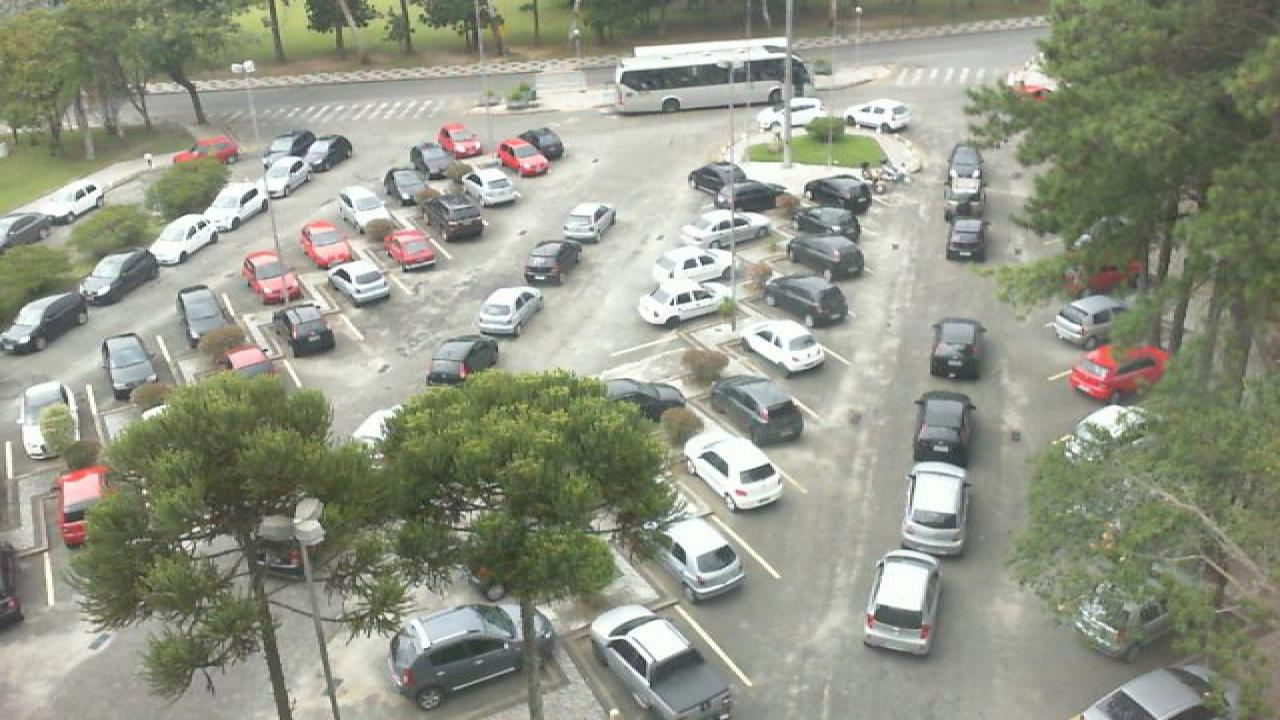Car: (384, 602, 546, 713), (588, 605, 738, 720), (632, 513, 746, 602), (860, 548, 940, 657), (682, 430, 786, 510), (896, 459, 974, 556), (708, 372, 806, 444), (1070, 344, 1170, 404), (2, 292, 90, 356), (910, 388, 978, 468), (740, 317, 828, 375), (72, 250, 160, 305), (766, 272, 848, 329), (16, 379, 72, 460), (54, 463, 110, 544), (1048, 294, 1130, 349), (100, 333, 162, 404), (146, 214, 226, 268), (636, 284, 738, 326), (674, 207, 772, 250), (424, 336, 500, 390), (790, 235, 878, 281), (268, 300, 336, 359), (598, 378, 684, 424), (928, 316, 986, 383), (472, 286, 546, 338), (240, 246, 304, 305), (176, 282, 230, 351), (200, 181, 268, 231), (30, 180, 108, 222), (326, 256, 392, 305), (652, 248, 736, 286), (294, 219, 356, 270), (800, 173, 874, 214), (788, 206, 864, 245), (424, 196, 486, 242), (754, 97, 828, 135), (522, 240, 582, 286), (382, 226, 440, 270), (560, 200, 618, 243), (462, 164, 518, 208), (846, 97, 914, 133), (716, 180, 784, 215), (334, 184, 388, 228), (224, 342, 278, 386), (262, 154, 312, 199), (686, 161, 748, 197), (496, 137, 548, 178), (0, 211, 52, 251), (302, 132, 352, 173), (172, 135, 240, 165), (944, 216, 986, 263), (406, 141, 454, 182), (434, 123, 482, 162), (258, 130, 312, 164), (944, 180, 986, 222), (380, 160, 424, 199), (526, 126, 568, 164), (946, 143, 984, 183)
